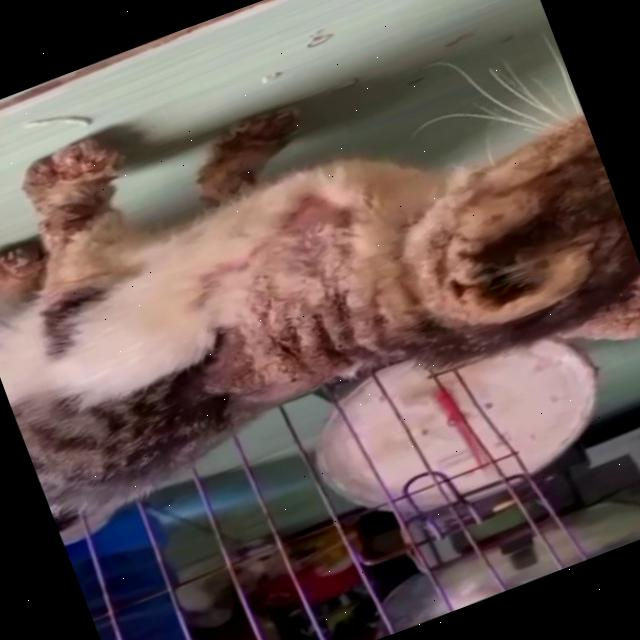cat-scabies: (422, 198, 600, 342), (248, 281, 382, 404), (13, 127, 139, 226), (208, 103, 310, 177), (560, 278, 640, 366), (0, 235, 54, 309)
